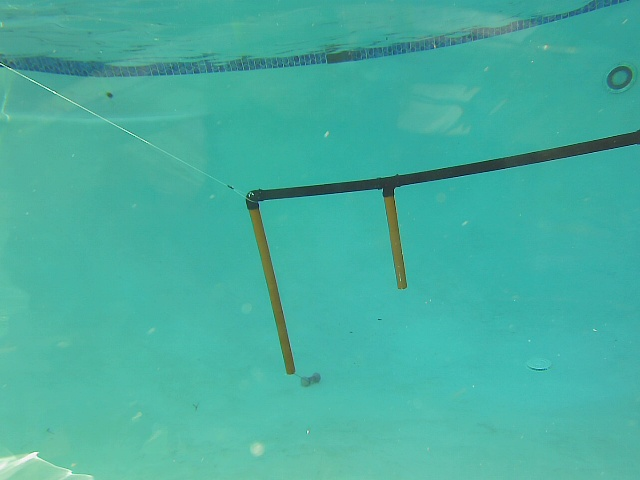Gate: (243, 207, 296, 377), (378, 193, 411, 291)
